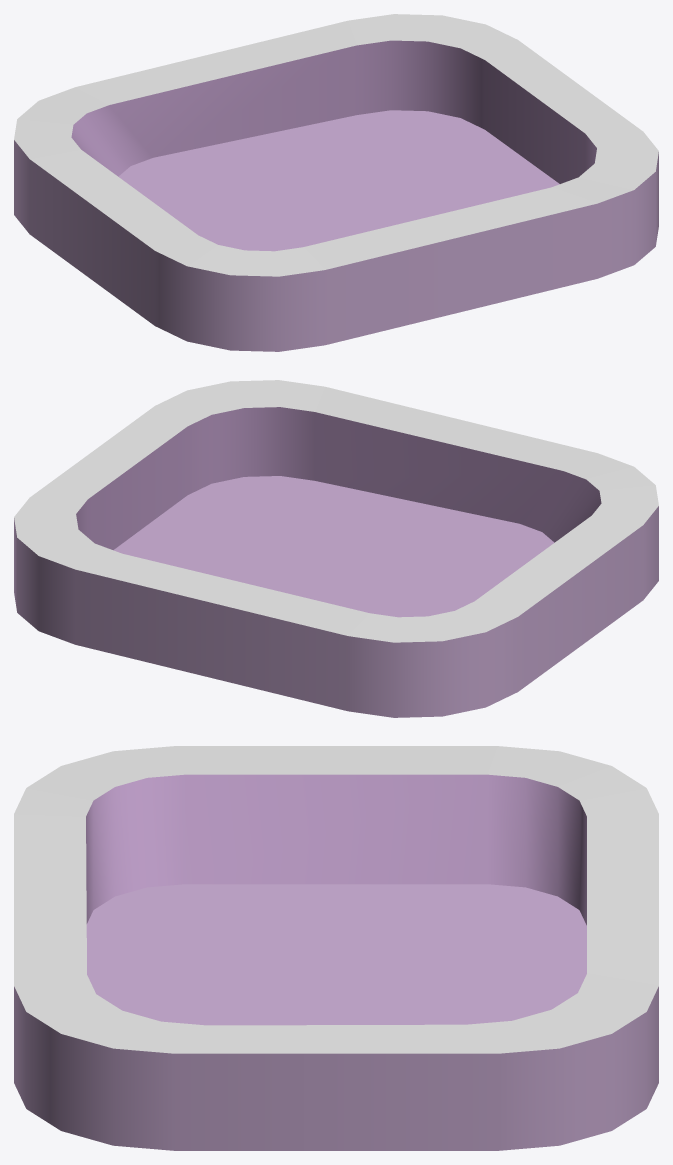
The model's file is stack_Jan2026_2.fbx.
The picture shows the model from 3 angles, top to bottom: view 1: azimuth 30°, elevation 25°; view 2: azimuth 150°, elevation 25°; view 3: azimuth 270°, elevation 25°; orthographic projection. The views are drawn at different scales.
Visible parts, largest first — view 1: Stack_Jan; view 2: Stack_Jan; view 3: Stack_Jan.
Part boxes in pixels (box(x1,y1,x2,y2)): Stack_Jan: box(14, 14, 658, 351); Stack_Jan: box(14, 380, 658, 717); Stack_Jan: box(14, 746, 658, 1150).
Bounding box in the file's own units: 317 × 47.27 × 281.
